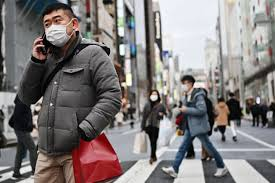mask: (40, 8, 76, 46), (180, 76, 193, 93), (148, 89, 160, 106)
